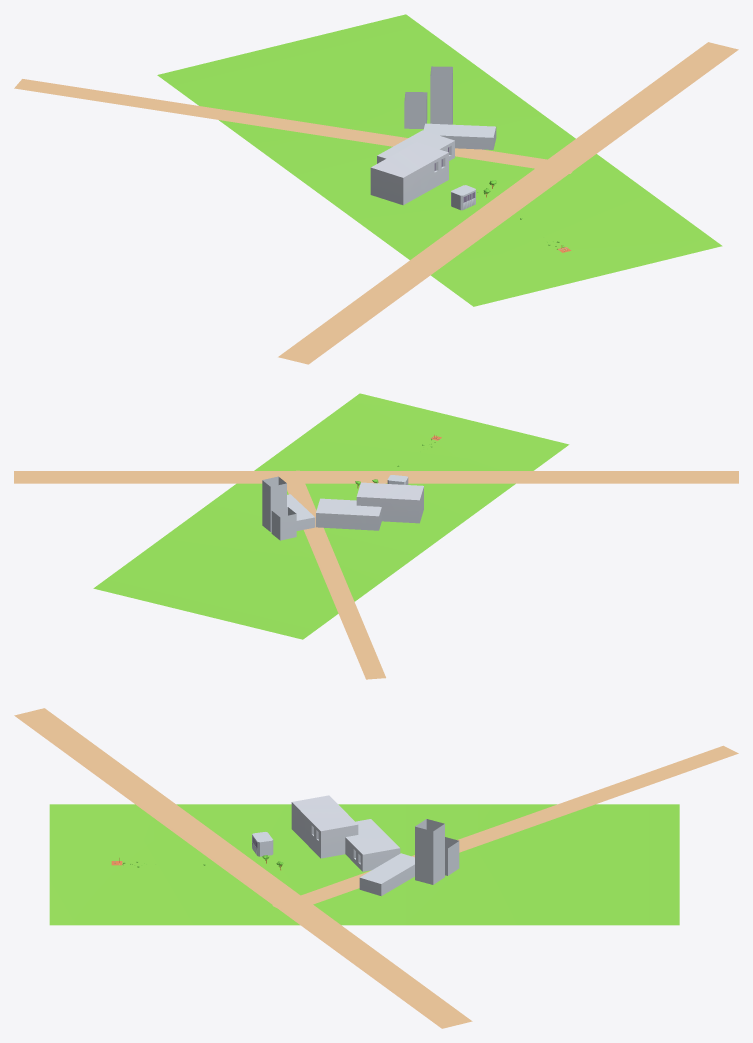
File: Background Scene.fbx
3 renders of one model, top to bottom at view 1: azimuth 30°, elevation 25°; view 2: azimuth 150°, elevation 25°; view 3: azimuth 270°, elevation 25°, orthographic. The views are drawn at different scales.
Parts seen in each view (by area): view 1: Plane.009, Plane.010, Plane.011, Cube.012, Cube.010, Retopo_SM_Bld_OfficeSquare_03, Cube.019, Retopo_SM_Bld_OfficeSquare_03.001; view 2: Plane.009, Plane.010, Plane.011, Cube.012, Cube.019, Retopo_SM_Bld_OfficeSquare_03, Retopo_SM_Bld_OfficeSquare_03.001, Cube.010; view 3: Plane.009, Plane.010, Plane.011, Cube.012, Cube.019, Retopo_SM_Bld_OfficeSquare_03, Cube.010.
Boxes of the visible parts, bbox=[...] form: Plane.009: bbox=[157, 14, 722, 306]; Plane.010: bbox=[278, 42, 738, 364]; Plane.011: bbox=[14, 79, 574, 173]; Cube.012: bbox=[370, 142, 448, 205]; Cube.010: bbox=[423, 123, 496, 149]; Retopo_SM_Bld_OfficeSquare_03: bbox=[430, 66, 452, 124]; Cube.019: bbox=[377, 130, 454, 163]; Retopo_SM_Bld_OfficeSquare_03.001: bbox=[404, 92, 427, 128]; Plane.009: bbox=[93, 393, 569, 639]; Plane.010: bbox=[14, 471, 738, 483]; Plane.011: bbox=[287, 470, 385, 679]; Cube.012: bbox=[356, 482, 423, 523]; Cube.019: bbox=[316, 498, 381, 530]; Retopo_SM_Bld_OfficeSquare_03: bbox=[262, 476, 286, 532]; Retopo_SM_Bld_OfficeSquare_03.001: bbox=[271, 507, 296, 540]; Cube.010: bbox=[287, 494, 315, 530]; Plane.009: bbox=[49, 804, 679, 925]; Plane.010: bbox=[14, 708, 472, 1028]; Plane.011: bbox=[272, 745, 738, 908]; Cube.012: bbox=[291, 795, 358, 858]; Cube.019: bbox=[345, 819, 400, 871]; Retopo_SM_Bld_OfficeSquare_03: bbox=[415, 819, 444, 884]; Cube.010: bbox=[359, 853, 414, 895].
Bounding box in the file's own units: 19710 × 2186 × 18823.
